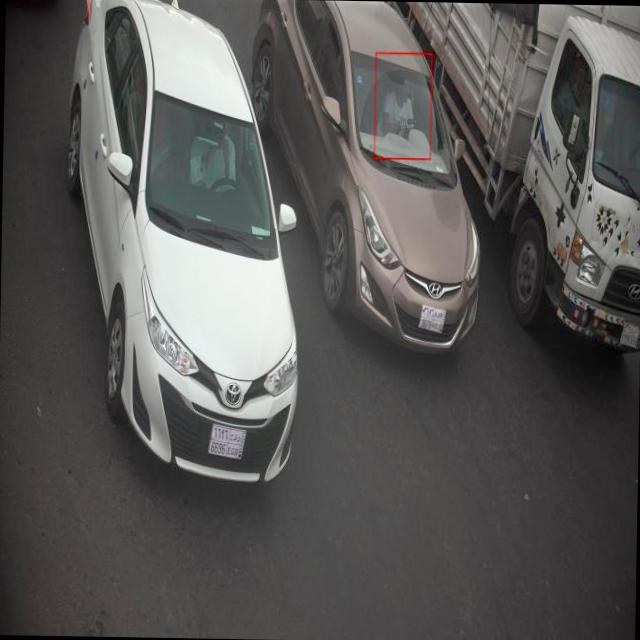person_without_seatbelt: (378, 63, 428, 144)
